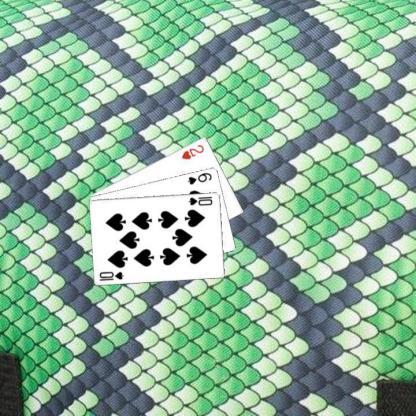10S: (186, 194, 214, 206), (97, 269, 125, 281)
2H: (179, 142, 205, 161)
6S: (186, 170, 213, 185)
